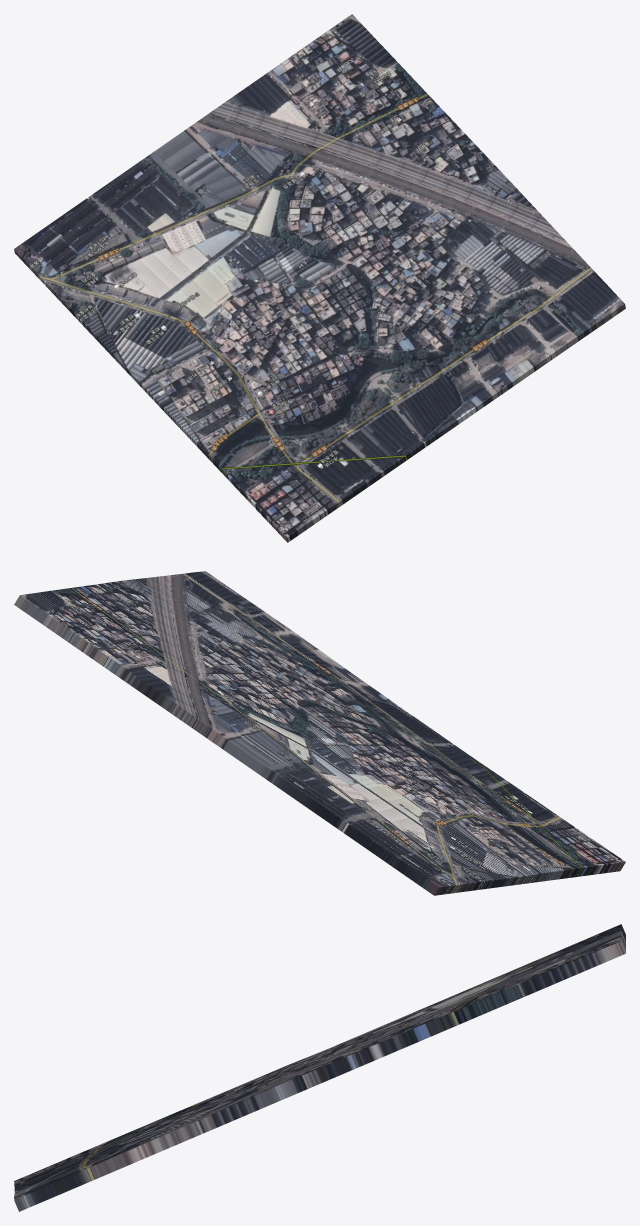
The picture shows the model from 3 angles, top to bottom: view 1: azimuth 30°, elevation 25°; view 2: azimuth 150°, elevation 25°; view 3: azimuth 270°, elevation 25°; orthographic projection. The views are drawn at different scales.
Visible parts, largest first — view 1: 0_21_1; view 2: 0_21_1; view 3: 0_21_1.
Part boxes in pixels (box(x1,y1,x2,y2)): 0_21_1: box(14, 14, 625, 542); 0_21_1: box(14, 571, 625, 895); 0_21_1: box(14, 924, 625, 1211).
Bounding box in the file's own units: 596 × 437 × 547.
Materials: 1 (1 with a texture image).
